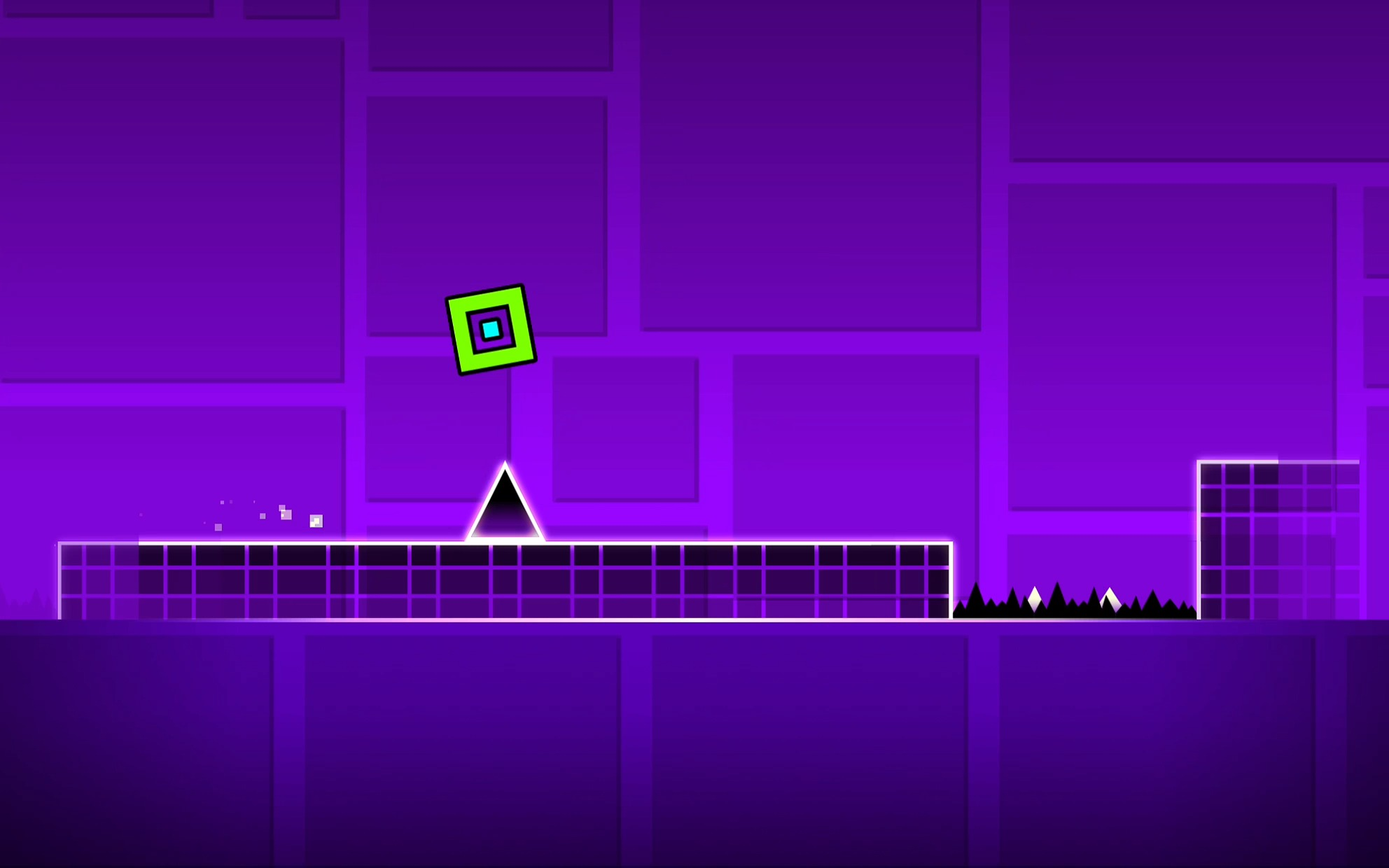Block2: (63, 539, 948, 622), (1199, 461, 1389, 619)
Player: (447, 285, 536, 375)
Spike: (466, 461, 543, 540)
Spike3: (949, 587, 1199, 623)
